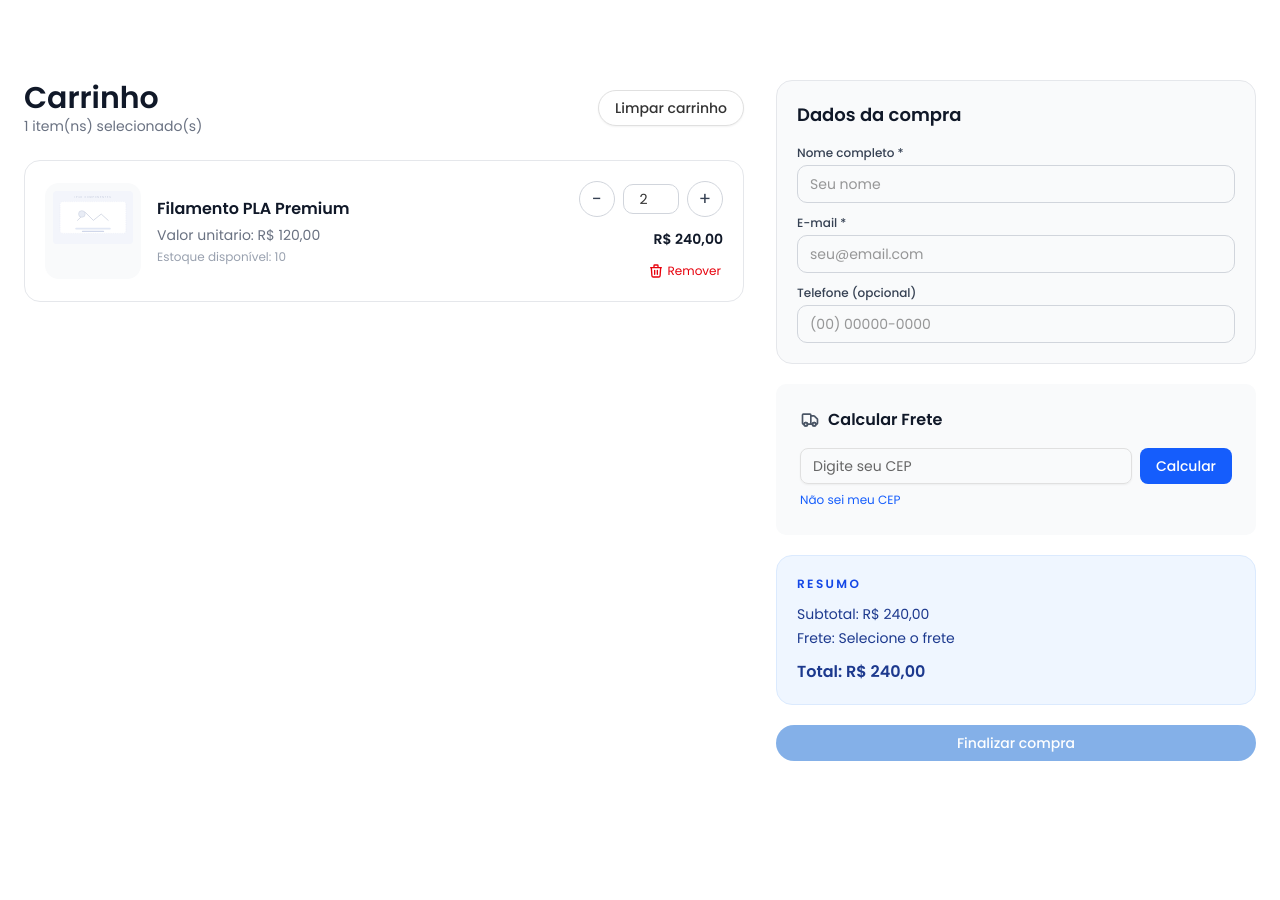
Test case: CarrinhoPage (Cart UI & Integration) › deve incrementar e decrementar quantidade de itens no carrinho
// Clica para aumentar
Click the button named "Aumentar quantidade de Filamento PLA Premium": (705, 199) 687,181 -> 723,217
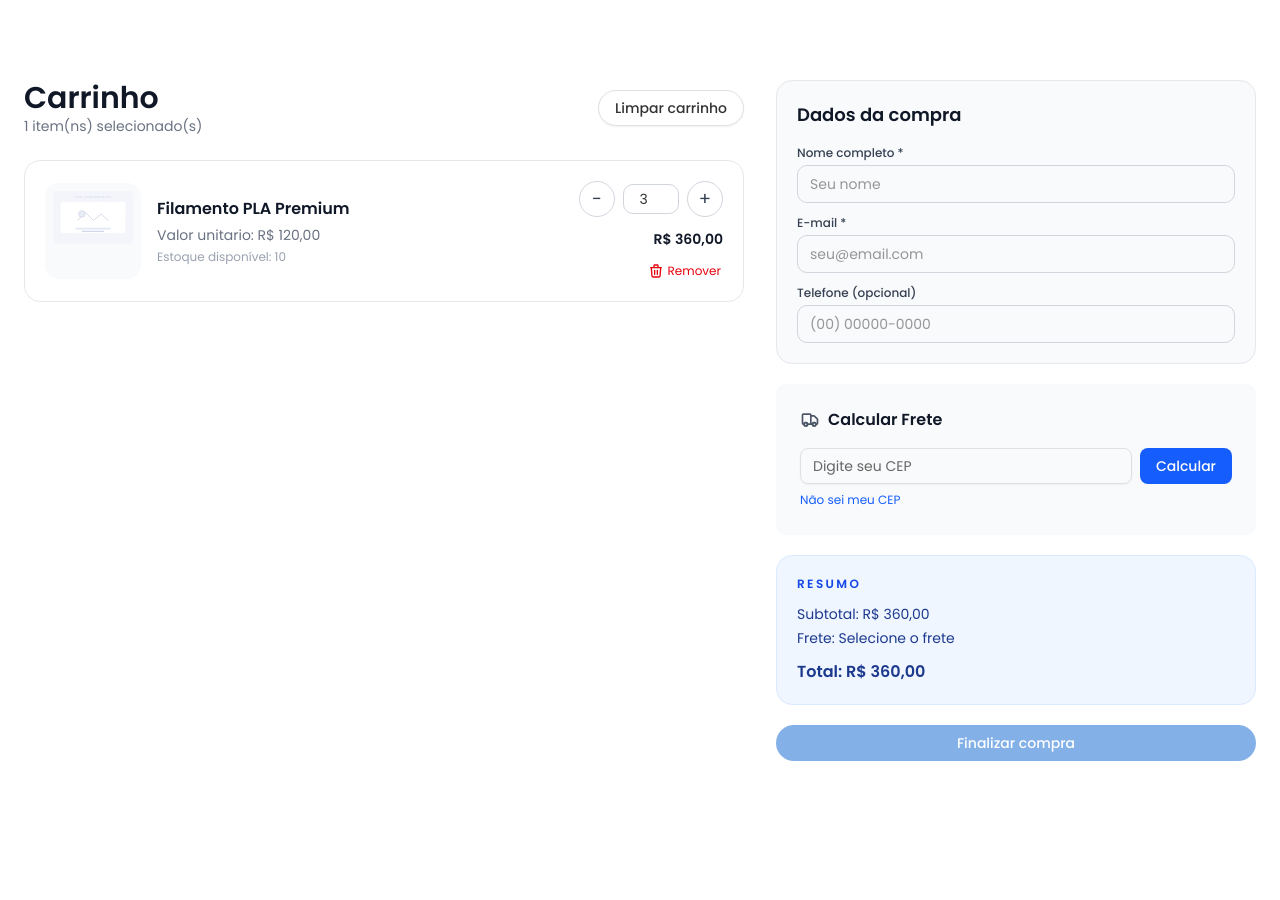
Expected: the number field named "Quantidade de Filamento PLA Premium" holds "3", 623,184 -> 679,214
// Clica para diminuir
Click the button named "Diminuir quantidade de Filamento PLA Premium": (597, 199) 579,181 -> 615,217
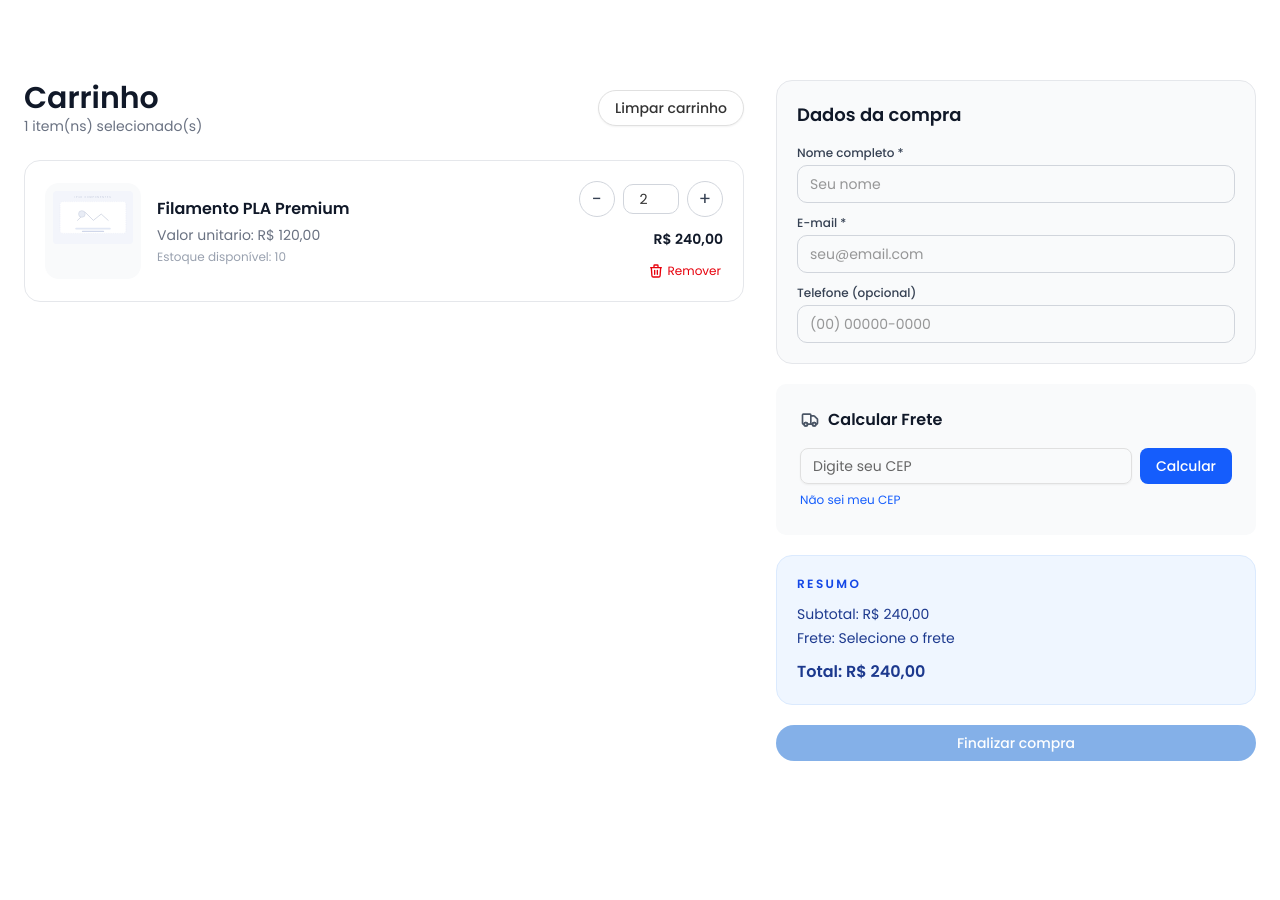
Expected: the number field named "Quantidade de Filamento PLA Premium" holds "2", 623,184 -> 679,214
